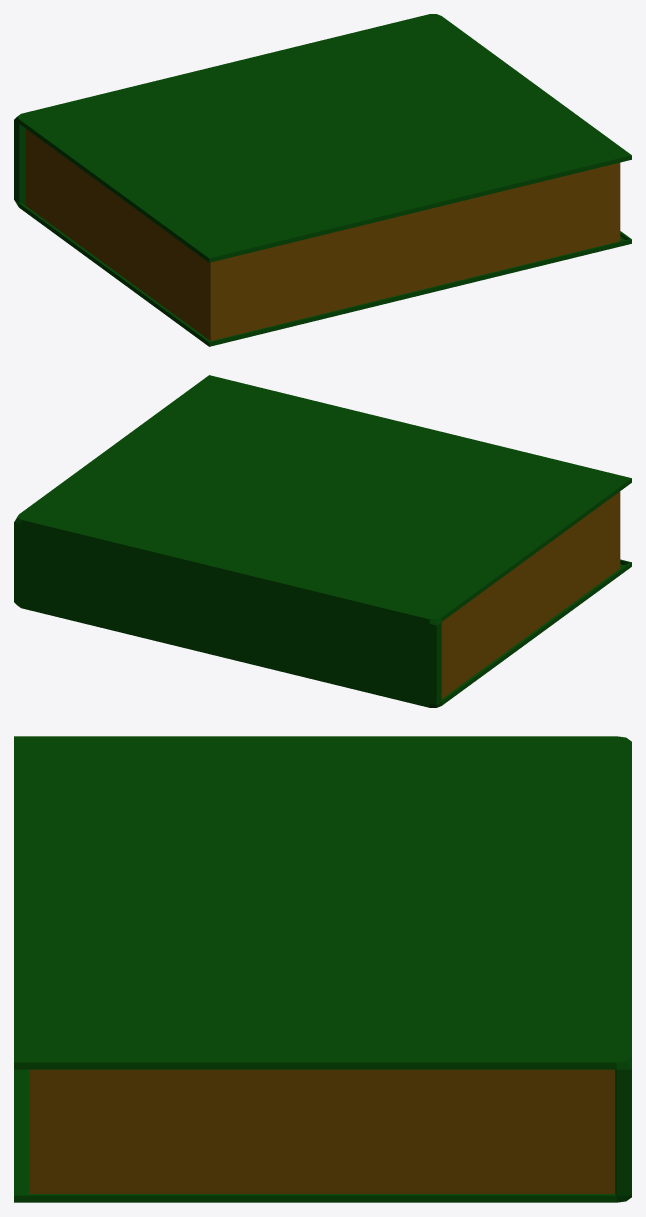
The model's file is _ook4.fbx.
The picture shows the model from 3 angles, top to bottom: view 1: azimuth 30°, elevation 25°; view 2: azimuth 150°, elevation 25°; view 3: azimuth 270°, elevation 25°; orthographic projection. The views are drawn at different scales.
Parts seen in each view (by area): view 1: Cube; view 2: Cube; view 3: Cube.
Boxes of the visible parts, x1,y1,x2,y2 form: Cube: [14, 14, 631, 346]; Cube: [14, 375, 631, 707]; Cube: [14, 736, 631, 1202].
Size of the model in its own units: 200 by 40 by 160.
